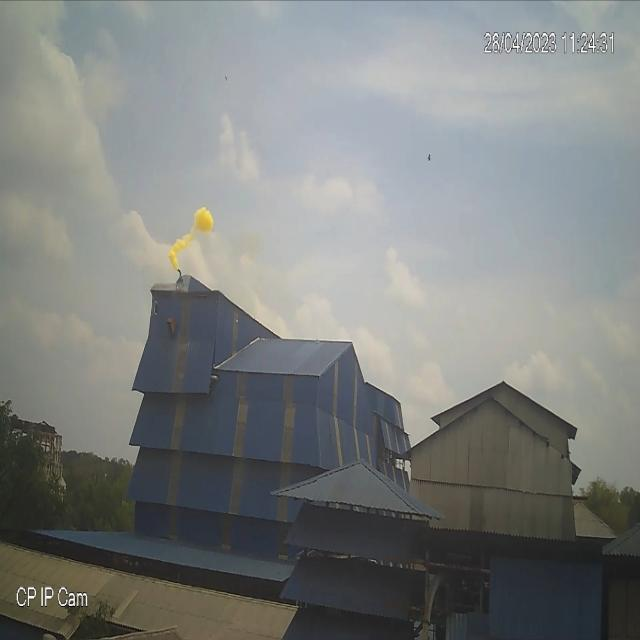yellow smoke: (166, 202, 214, 272)
